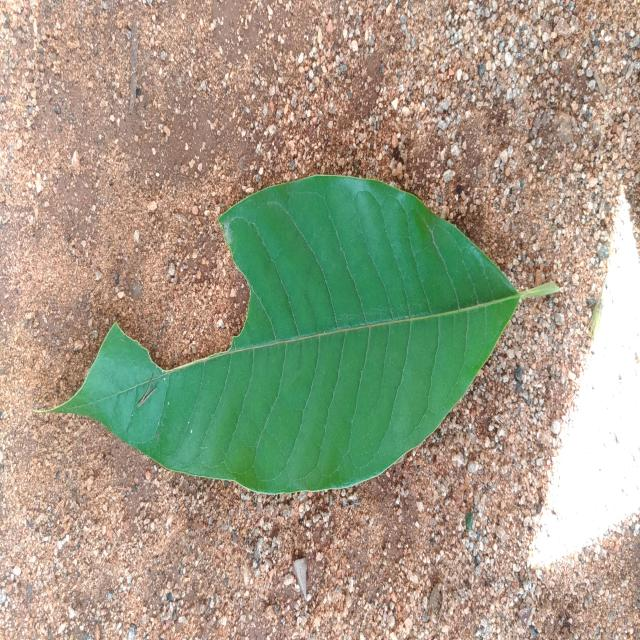coffee: (55, 176, 518, 493)
